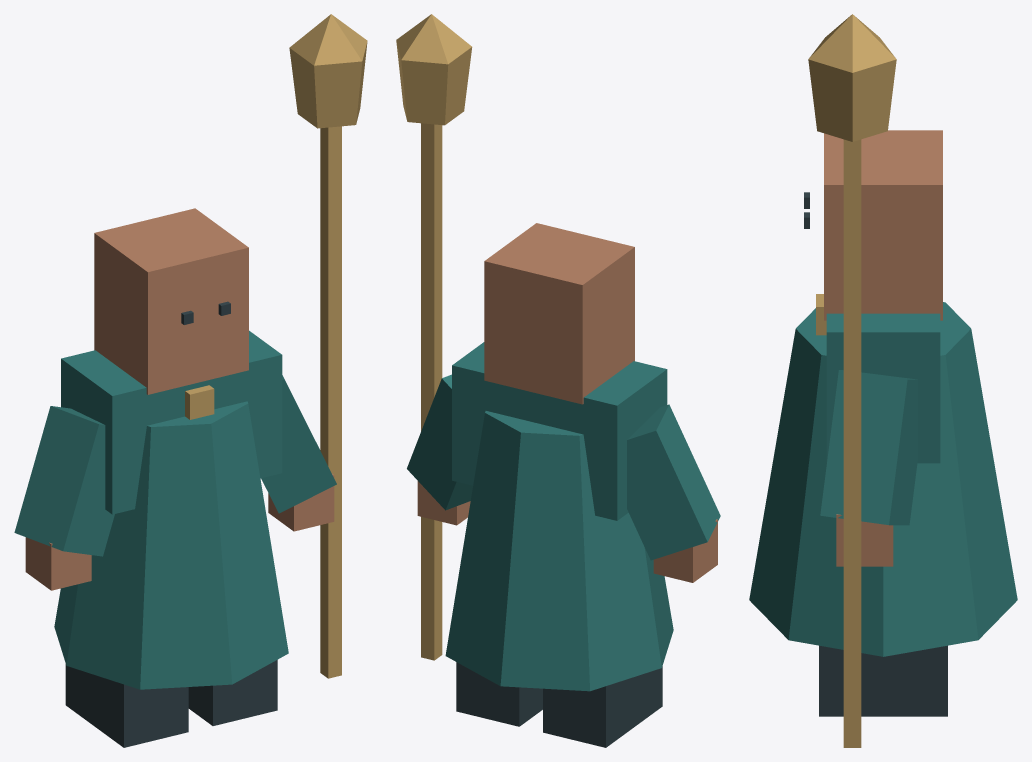
Rendered from NPC_RelicMerchant.glb.
The picture shows the model from 3 angles, left to right: view 1: azimuth 30°, elevation 25°; view 2: azimuth 150°, elevation 25°; view 3: azimuth 270°, elevation 25°; orthographic projection. The views are drawn at different scales.
Parts seen in each view (by area): view 1: NPC_RelicMerchant_Sanctuary teal_0_-1, NPC_RelicMerchant_Warm skin_0_-1, NPC_RelicMerchant_Aged gold_0_-1, NPC_RelicMerchant_Ironwork_0_-1; view 2: NPC_RelicMerchant_Sanctuary teal_0_-1, NPC_RelicMerchant_Warm skin_0_-1, NPC_RelicMerchant_Aged gold_0_-1, NPC_RelicMerchant_Ironwork_0_-1; view 3: NPC_RelicMerchant_Sanctuary teal_0_-1, NPC_RelicMerchant_Warm skin_0_-1, NPC_RelicMerchant_Aged gold_0_-1, NPC_RelicMerchant_Ironwork_0_-1.
Boxes of the visible parts, left/top/right/bottom form: NPC_RelicMerchant_Sanctuary teal_0_-1: left=14, top=330, right=336, bottom=689; NPC_RelicMerchant_Warm skin_0_-1: left=25, top=208, right=334, bottom=590; NPC_RelicMerchant_Aged gold_0_-1: left=185, top=14, right=367, bottom=678; NPC_RelicMerchant_Ironwork_0_-1: left=65, top=301, right=277, bottom=747; NPC_RelicMerchant_Sanctuary teal_0_-1: left=407, top=342, right=720, bottom=691; NPC_RelicMerchant_Warm skin_0_-1: left=417, top=223, right=717, bottom=582; NPC_RelicMerchant_Aged gold_0_-1: left=396, top=14, right=472, bottom=660; NPC_RelicMerchant_Ironwork_0_-1: left=456, top=662, right=662, bottom=747; NPC_RelicMerchant_Sanctuary teal_0_-1: left=749, top=302, right=1017, bottom=656; NPC_RelicMerchant_Warm skin_0_-1: left=824, top=130, right=942, bottom=566; NPC_RelicMerchant_Aged gold_0_-1: left=808, top=14, right=896, bottom=747; NPC_RelicMerchant_Ironwork_0_-1: left=804, top=192, right=947, bottom=716.
Size of the model in its own units: 4.16 by 7.9 by 2.6.
